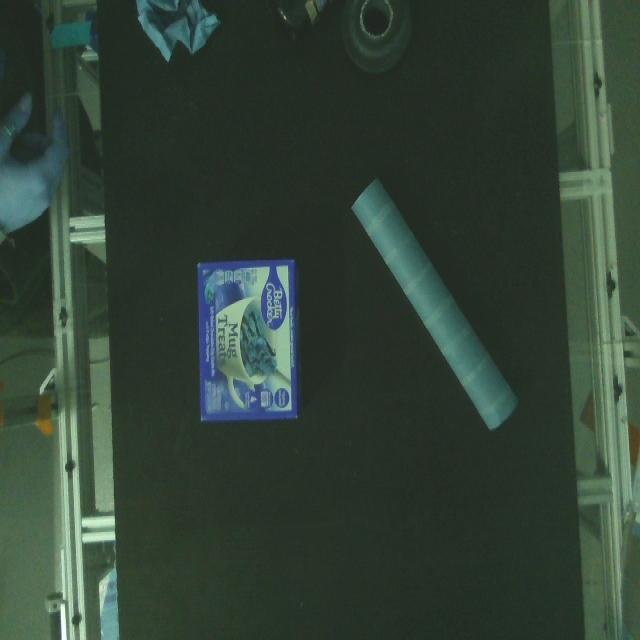non-paper: (338, 0, 419, 79), (265, 0, 330, 48)
paper: (345, 170, 525, 439), (192, 245, 301, 432), (128, 0, 222, 61)
